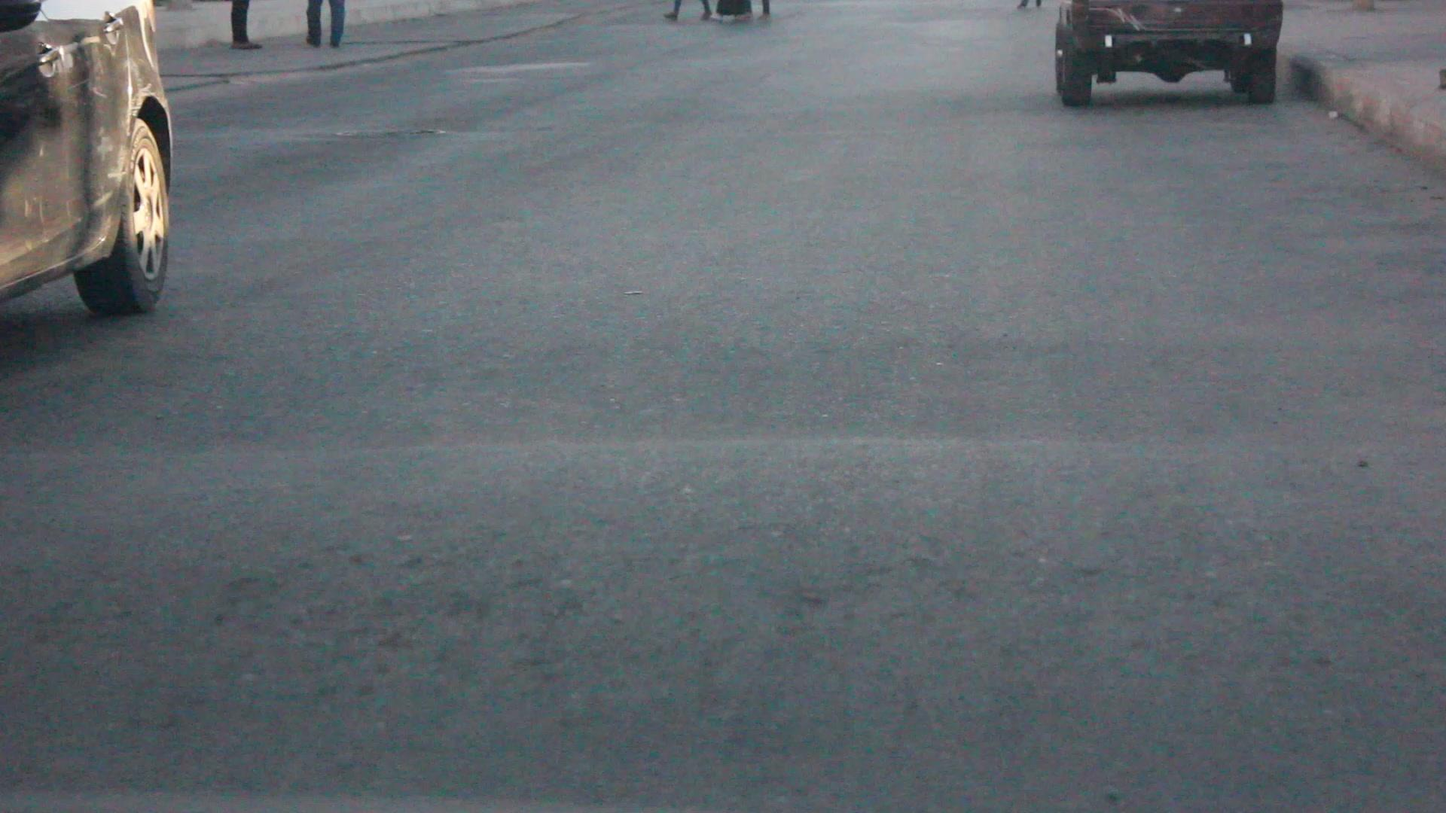Bump: (0, 432, 1445, 812)
